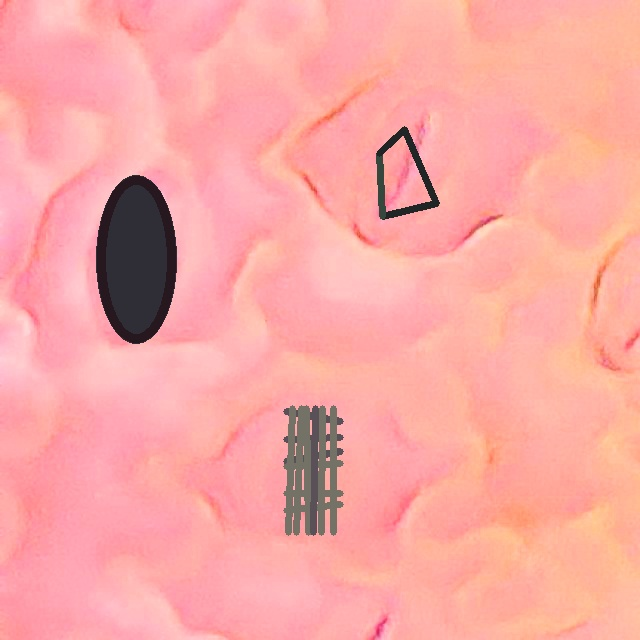close: (284, 406, 342, 534)
open: (97, 175, 176, 344), (376, 126, 439, 219)
